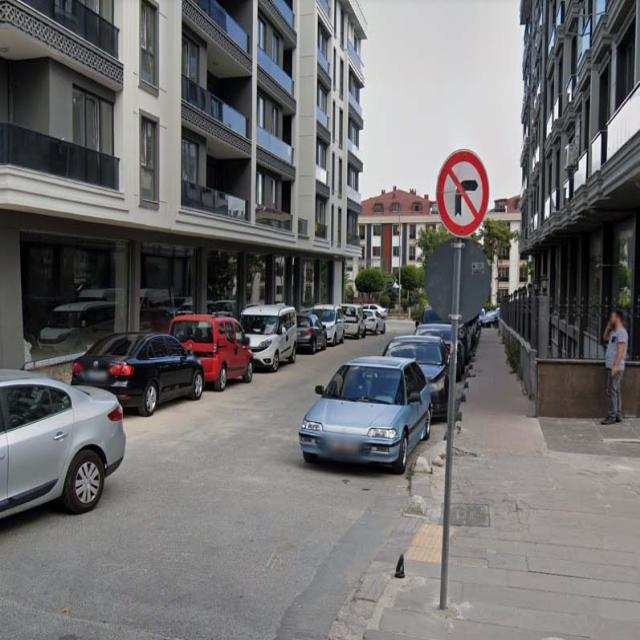sagadonulmez: (436, 150, 488, 237)
